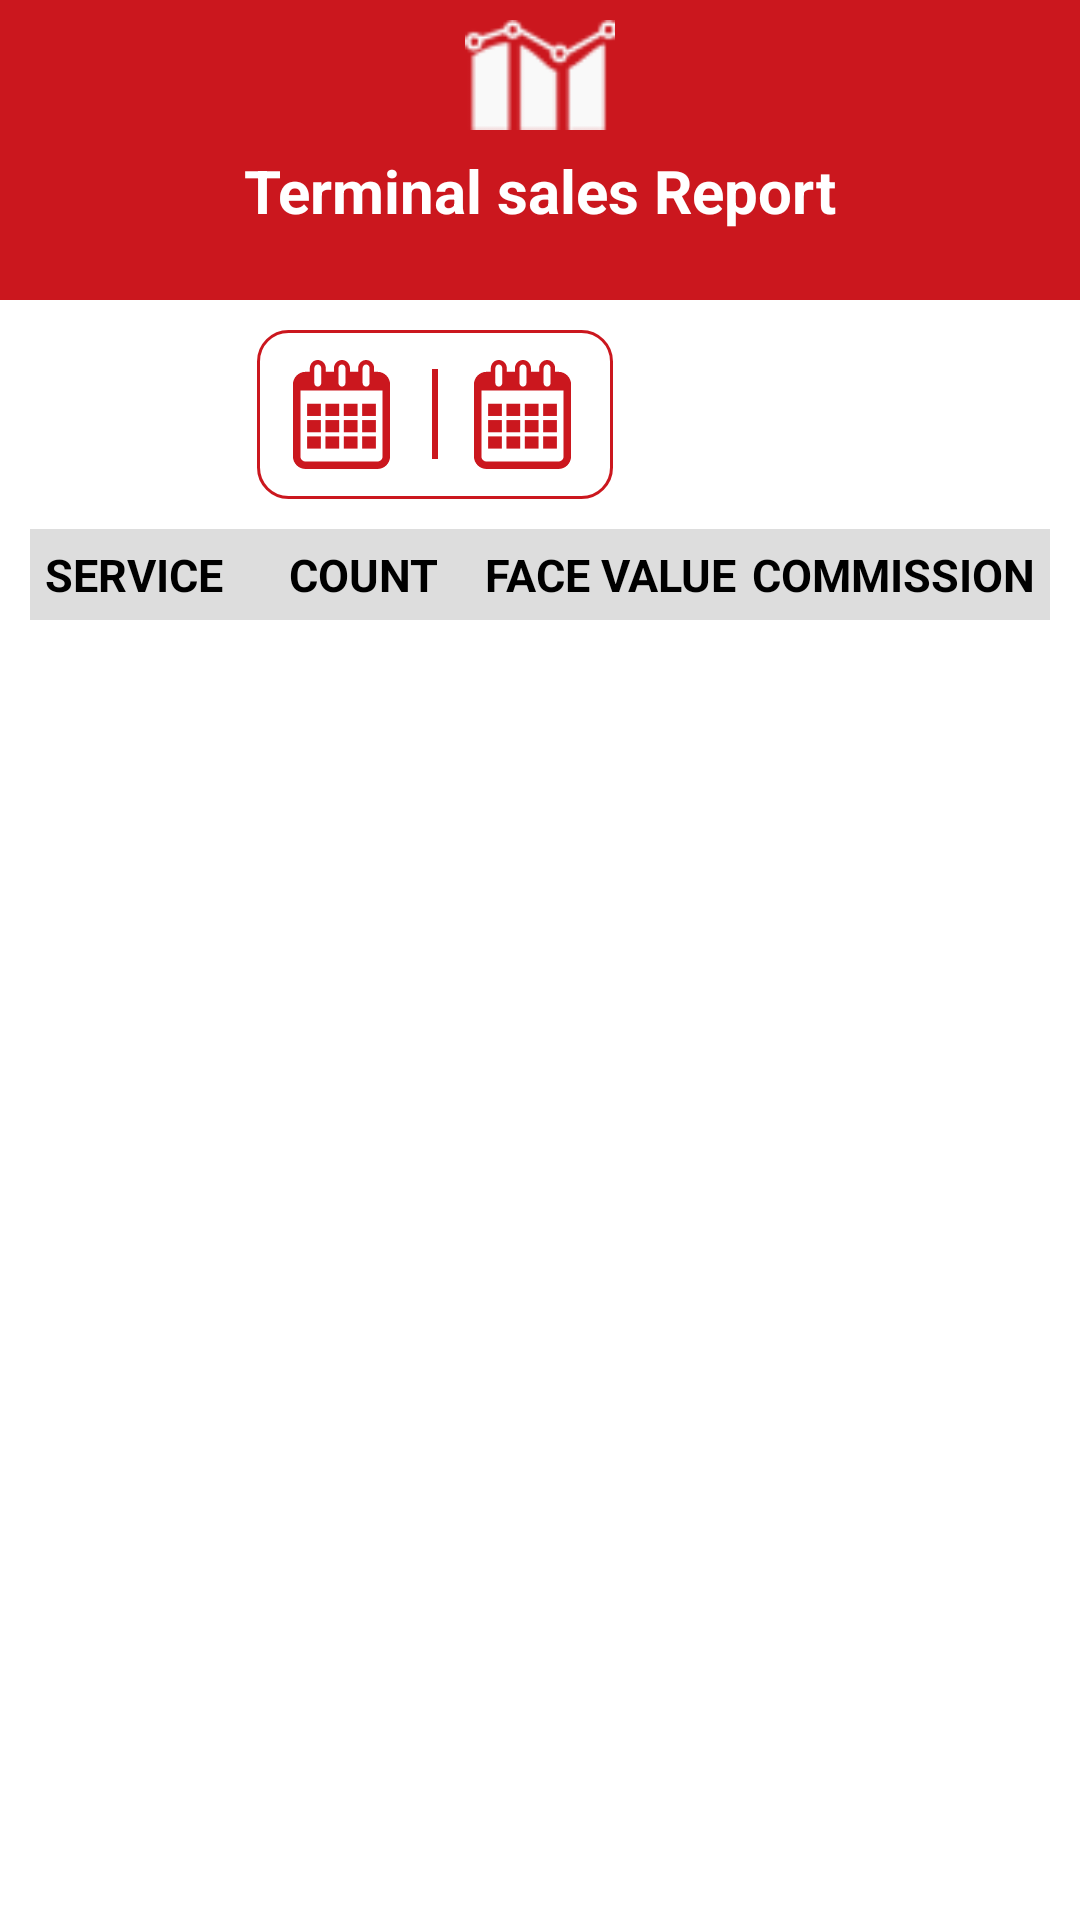

Point at icon controls on the screen. Image size 1080 × 1920, points as (x,y).
calendar interface symbol tool: (341,414), (522,414)
reciept report: (540,75)
